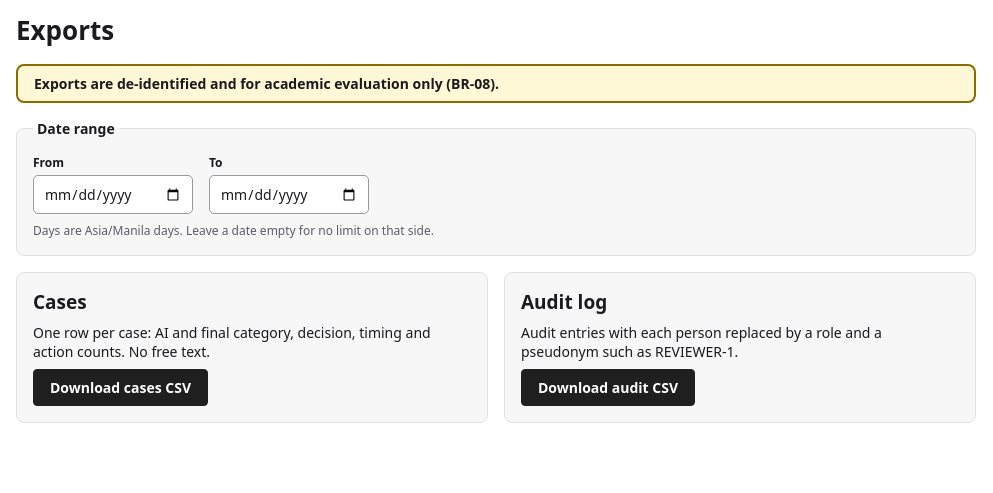
failures › shows an alert and saves nothing when the download fails
Click the button "Download cases CSV" at (120, 388), box [33,369,208,406]
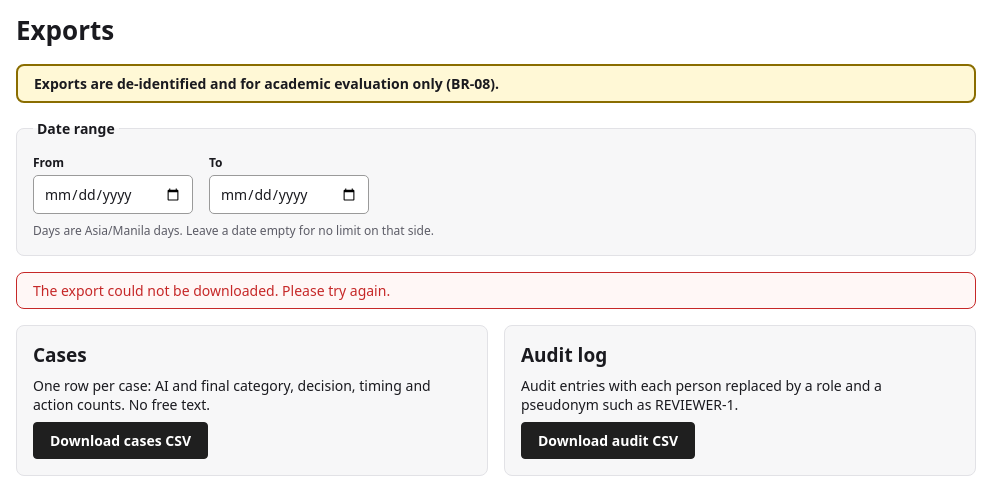
Check: the message reads "The export could not be downloaded. Please try again.", box [33,281,390,300]
